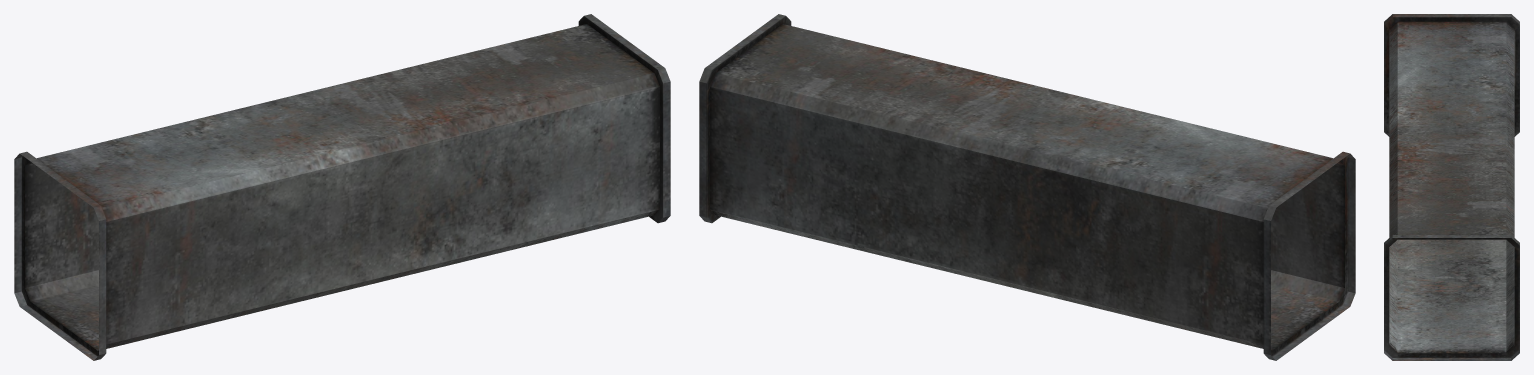
File: Vent_L.FBX
3 views of the same model, side by side, from view 1: azimuth 30°, elevation 25°; view 2: azimuth 150°, elevation 25°; view 3: azimuth 270°, elevation 25° (orthographic). The views are drawn at different scales.
Visible parts, largest first — view 1: Vent_L; view 2: Vent_L; view 3: Vent_L.
Part boxes in pixels (x1,y1,x2,y2): Vent_L: (14,14,670,360); Vent_L: (699,14,1355,360); Vent_L: (1384,14,1519,360).
Bounding box in the file's own units: 312 × 79.96 × 79.96.
